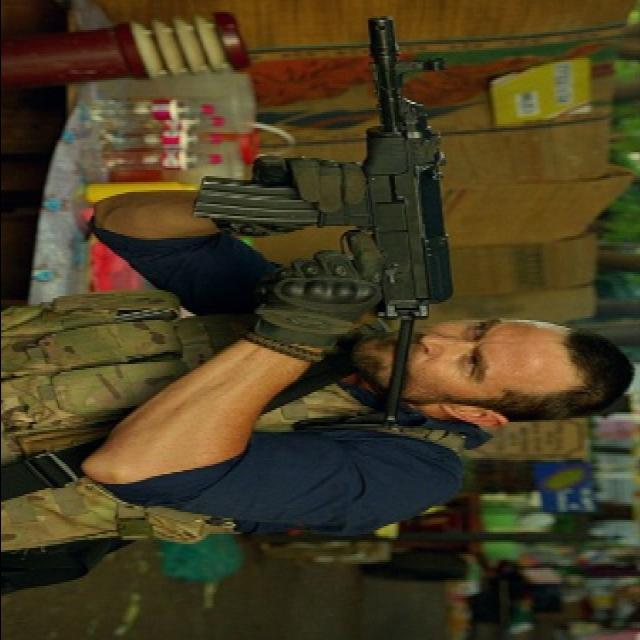rifle: (194, 19, 458, 427)
